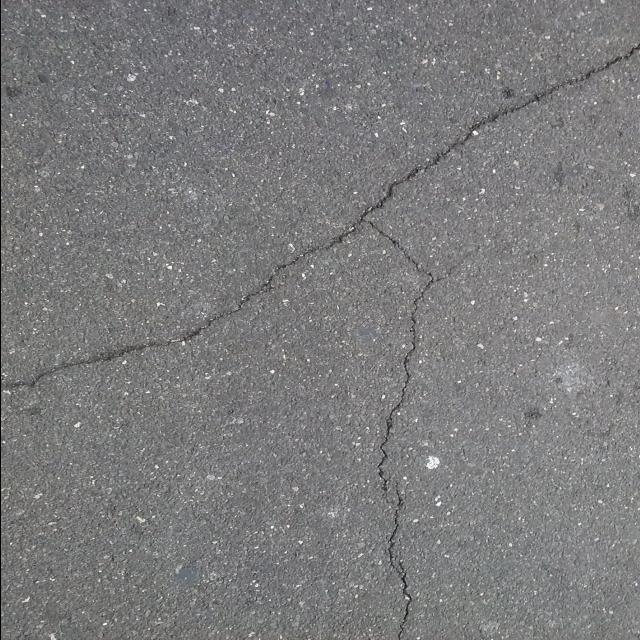Crack: (0, 43, 640, 495), (386, 482, 412, 640)
